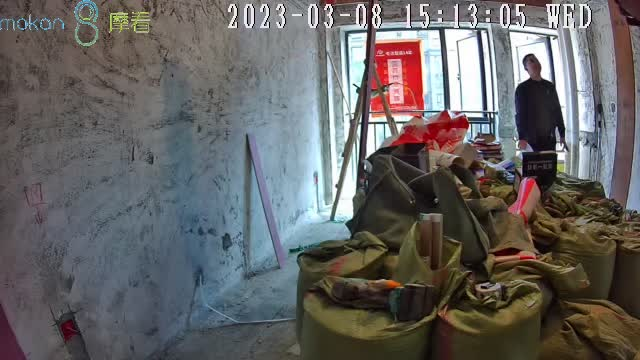people: (514, 53, 566, 151)
window: (344, 29, 497, 147)
